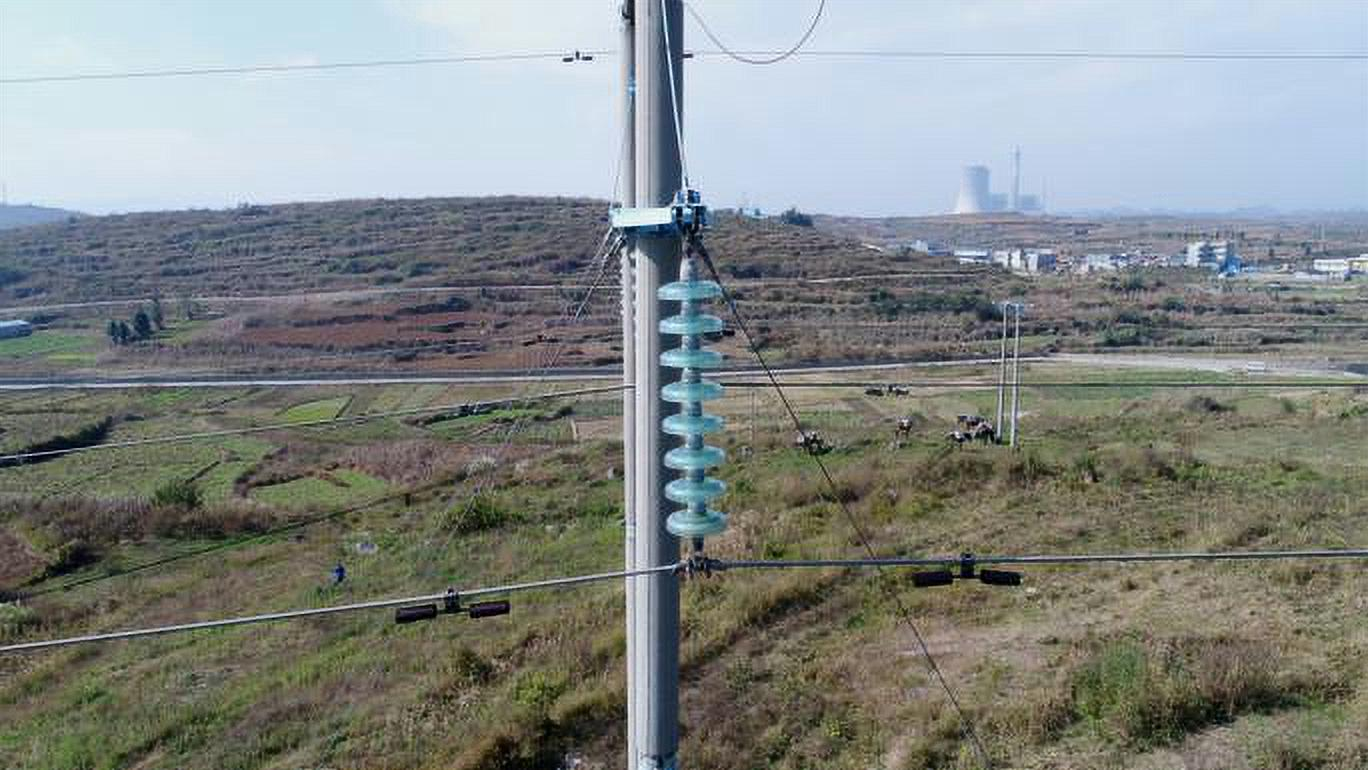insulator: (645, 271, 740, 546)
